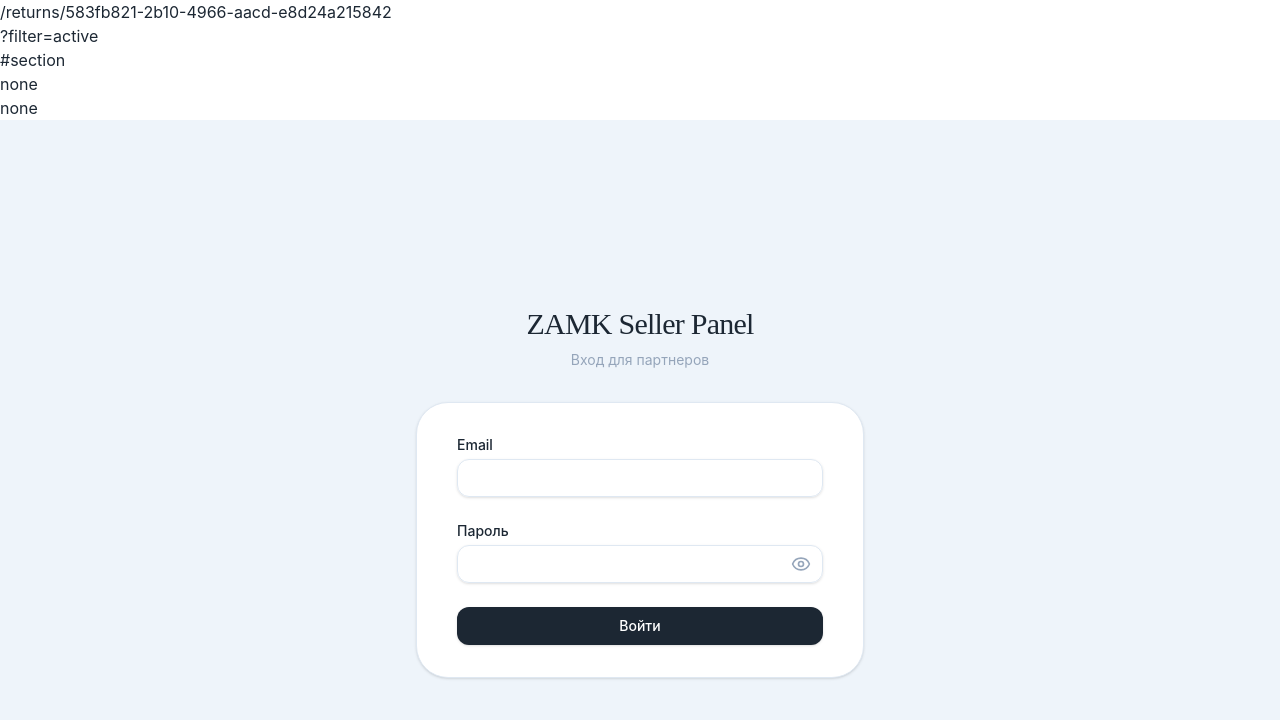
Test: Seller URL-Preserving Auth Gate & Deep-Link Invariants › URL-Preserving Auth Gate Integration Flows › unauthenticated /returns/{id}: URL remains in address bar, auth gate shown, login renders detail in place
The width and height of the screenshot is (1280, 720).
Expected: the text with test id "current-pathname" reads "/returns/583fb821-2b10-4966-aacd-e8d24a215842", 0,2 -> 392,22
Expected: the text with test id "current-search" reads "?filter=active", 0,26 -> 98,46
# Perform login
Type "seller@zamk.local" into the field labelled "Email".
click(640, 478); type("seller@zamk.local")  # box 457,459 -> 823,497
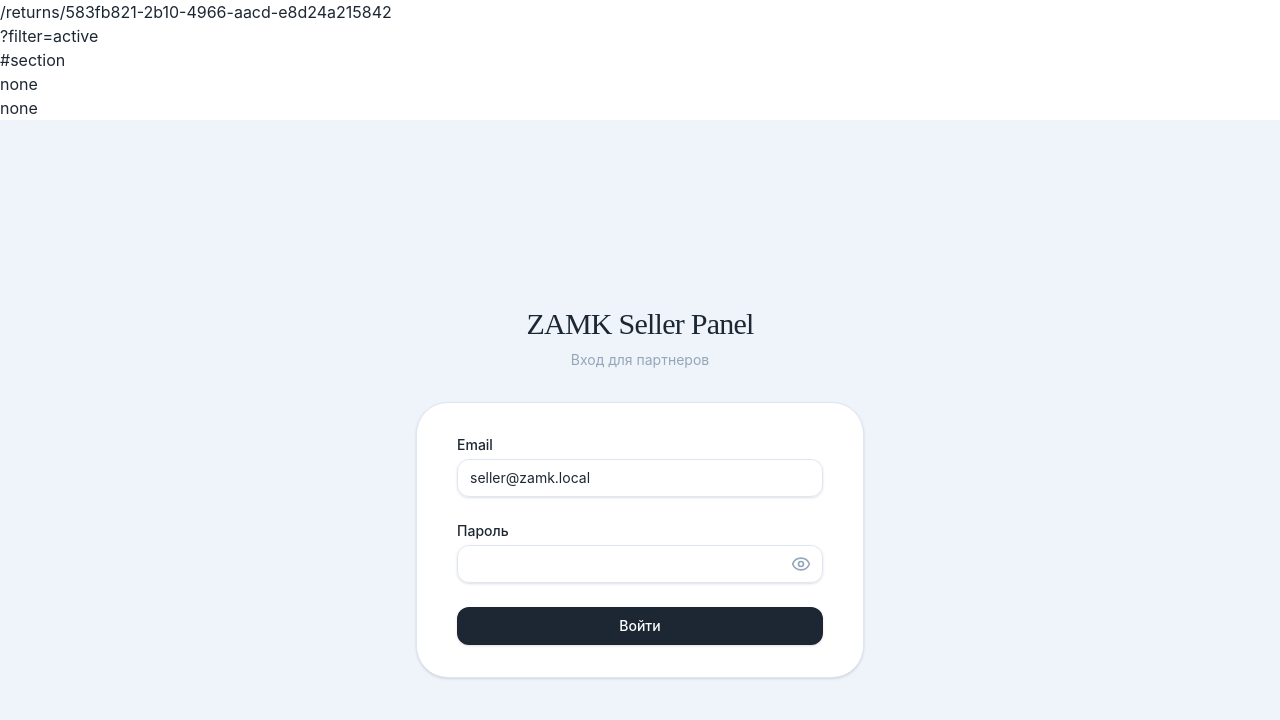
Type "password123" into the password field labelled "Пароль".
click(640, 564); type("password123")  # box 457,545 -> 823,583
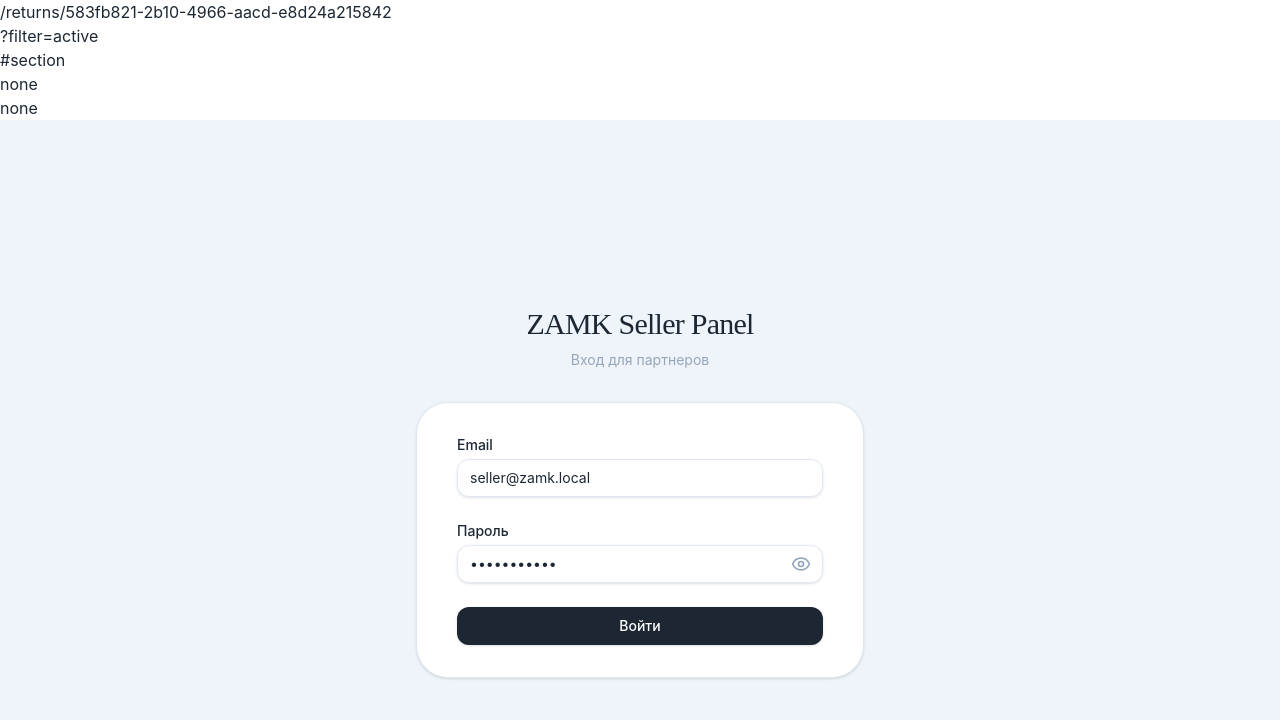
Click the button "Войти".
click(640, 626)  # box 457,607 -> 823,645
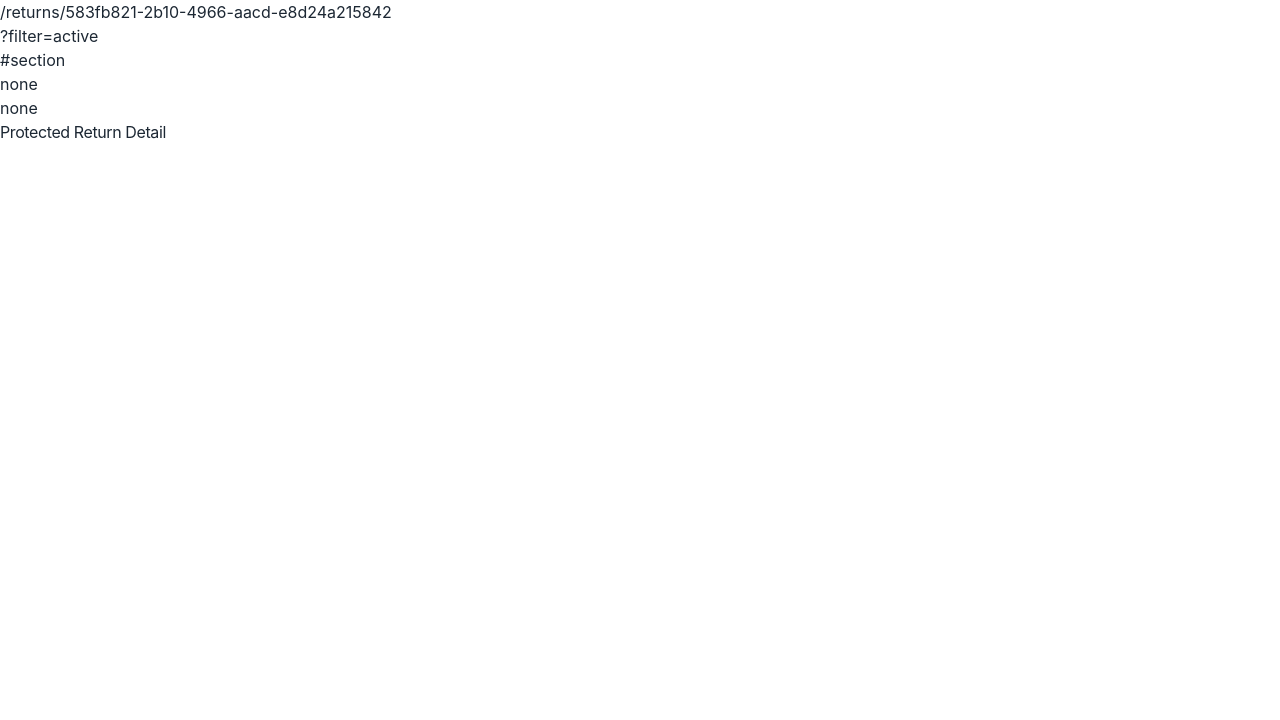
Expected: the text with test id "current-pathname" reads "/returns/583fb821-2b10-4966-aacd-e8d24a215842", 0,2 -> 392,22
Result: the heading "Protected Return Detail" is shown at 0,122 -> 166,142
